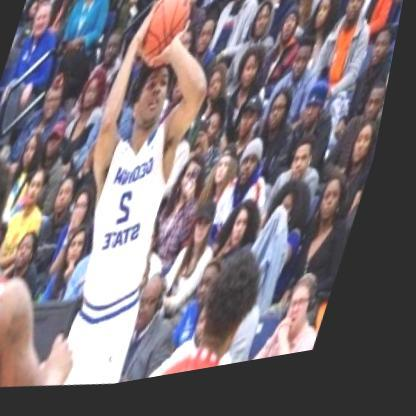basketball: (132, 0, 200, 73)
